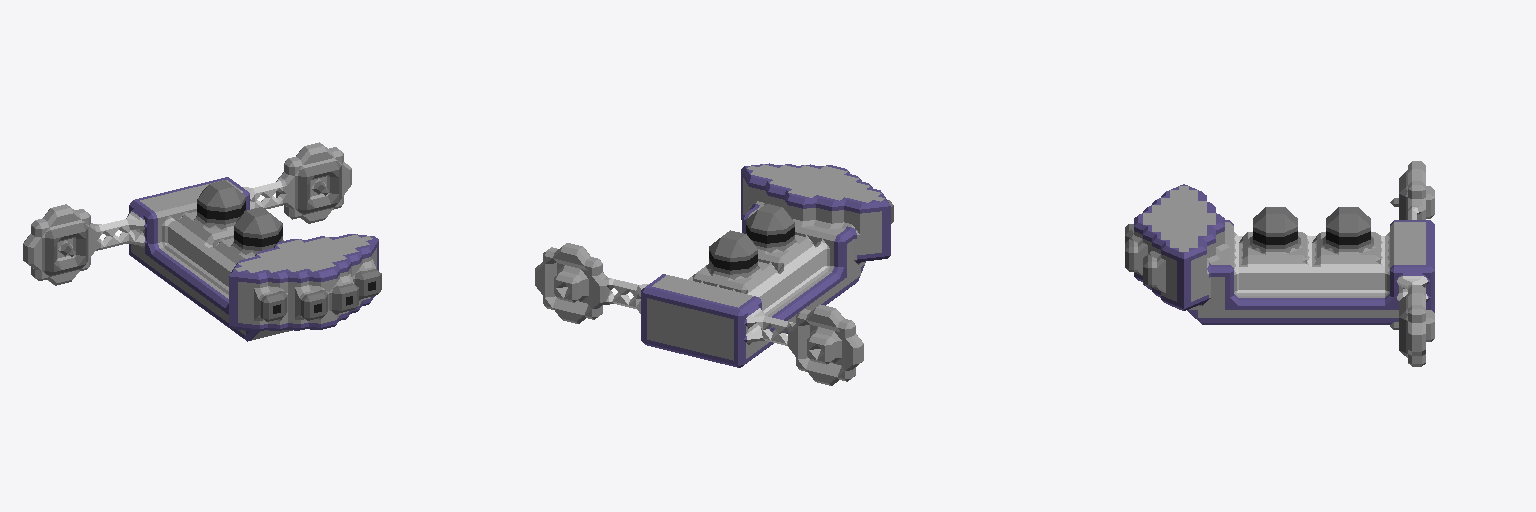
3 views of the same model, side by side, from view 1: azimuth 30°, elevation 25°; view 2: azimuth 150°, elevation 25°; view 3: azimuth 270°, elevation 25° (orthographic).
Size of the model in its own units: 41 by 11 by 34.
1 materials, 1 textured.